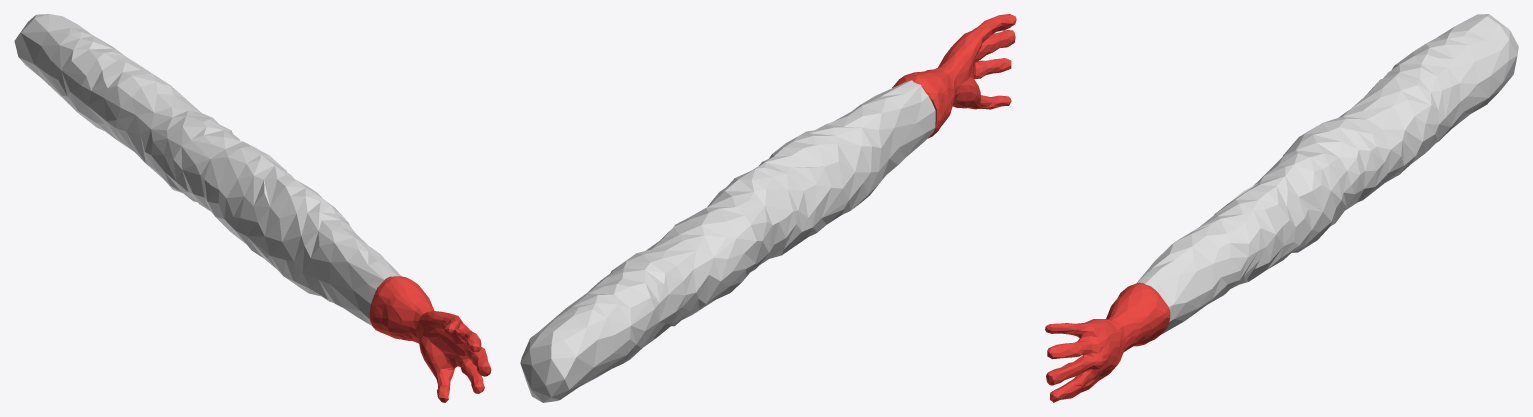
The model's file is arm.fbx.
The picture shows the model from 3 angles, left to right: view 1: azimuth 30°, elevation 25°; view 2: azimuth 150°, elevation 25°; view 3: azimuth 330°, elevation 25°; orthographic projection. The views are drawn at different scales.
Parts seen in each view (by area): view 1: Arm.001; view 2: Arm.001; view 3: Arm.001.
Boxes of the visible parts, x1,y1,x2,y2 form: Arm.001: (14, 14, 491, 402); Arm.001: (520, 14, 1016, 402); Arm.001: (1045, 14, 1518, 402).
Size of the model in its own units: 66.64 by 75.55 by 704.
